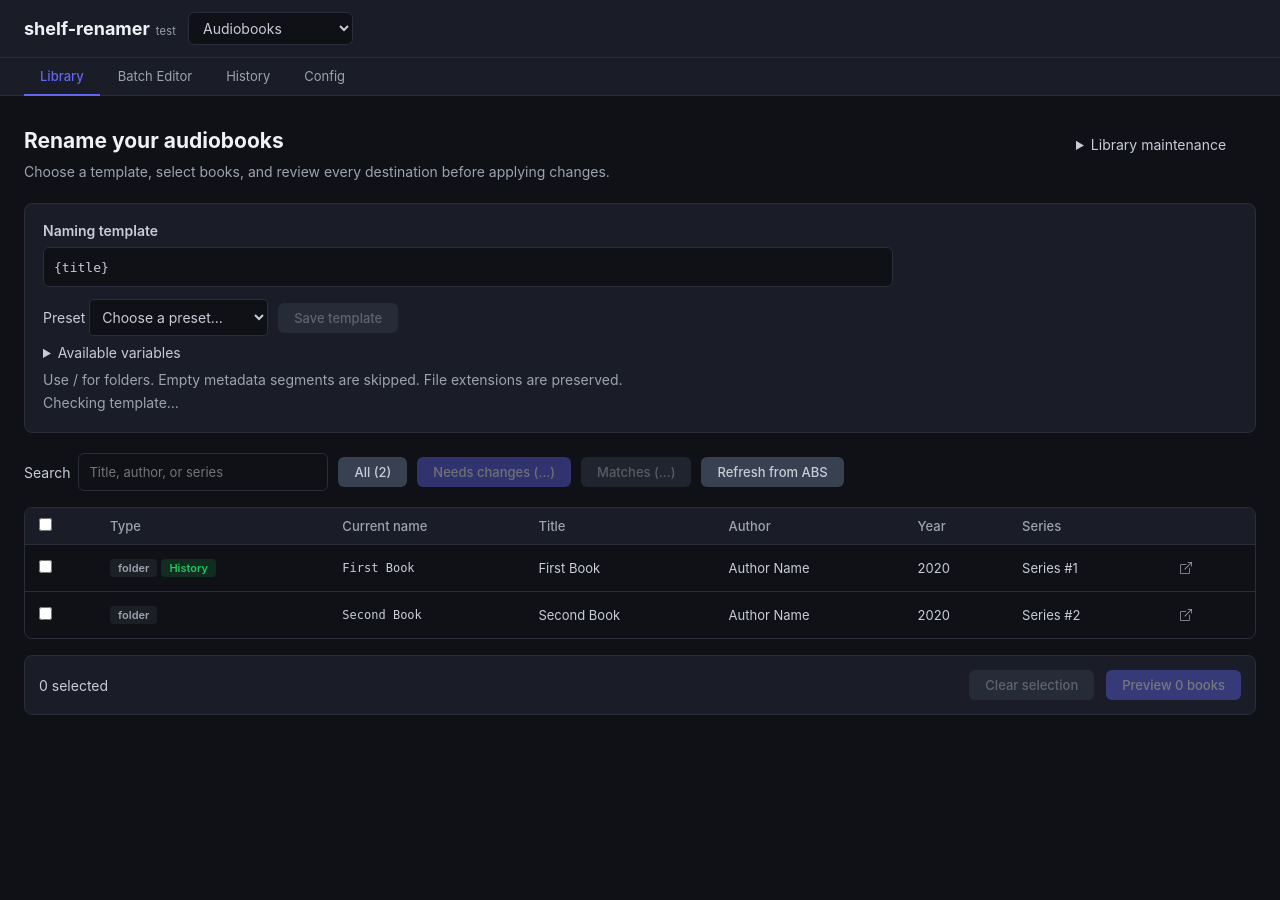
Test case: library workflow › preserves batch edits across tabs and shows per-row save errors
The width and height of the screenshot is (1280, 900).
expect the heading "Rename your audiobooks" is shown: met, box x1=24 y1=128 x2=284 y2=153
Step 1. Click the button "Batch Editor" → (155, 77), box x1=102 y1=58 x2=208 y2=96
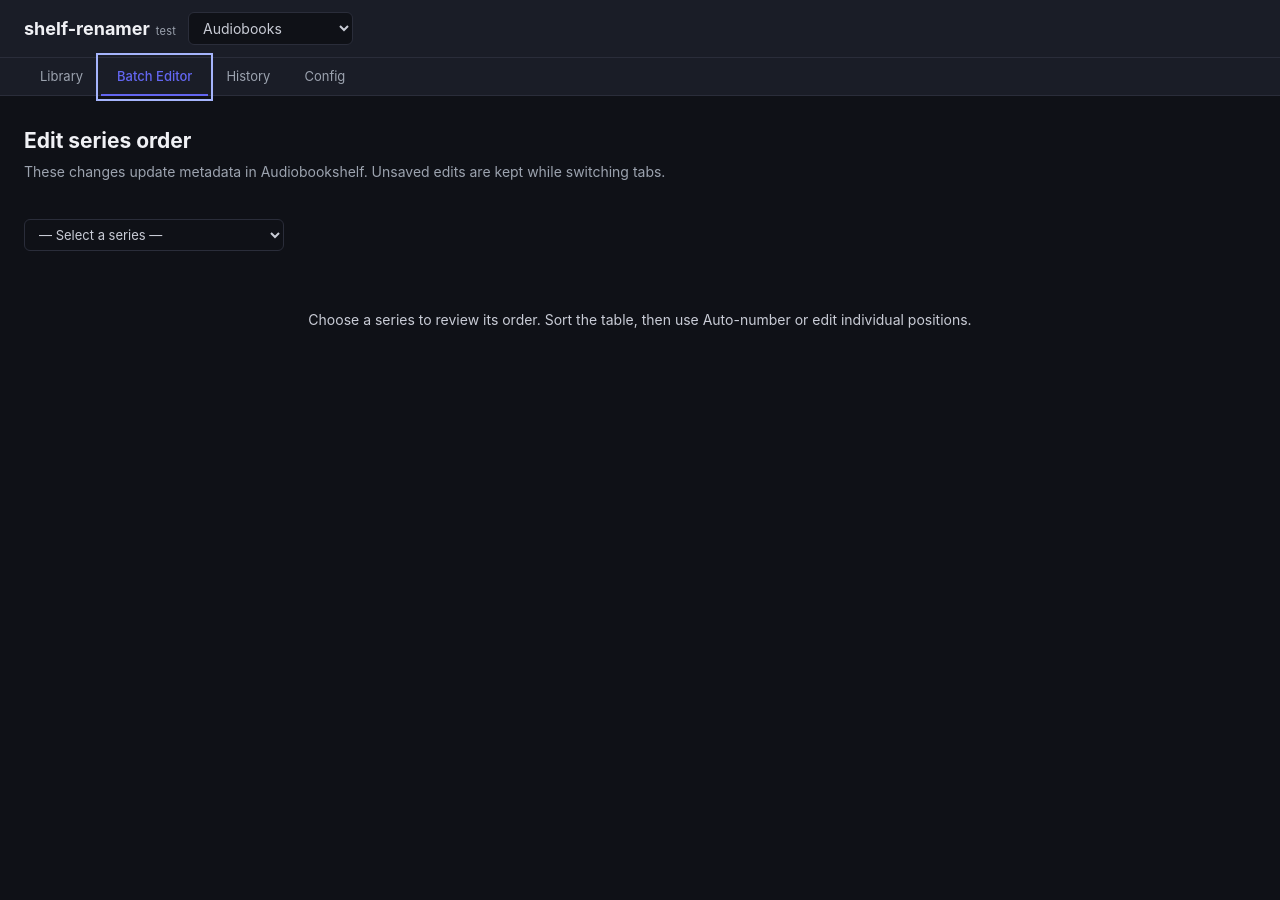
Step 2. Select "Series (2)" in the dropdown named "Series to edit" → (154, 235), box x1=24 y1=219 x2=284 y2=251
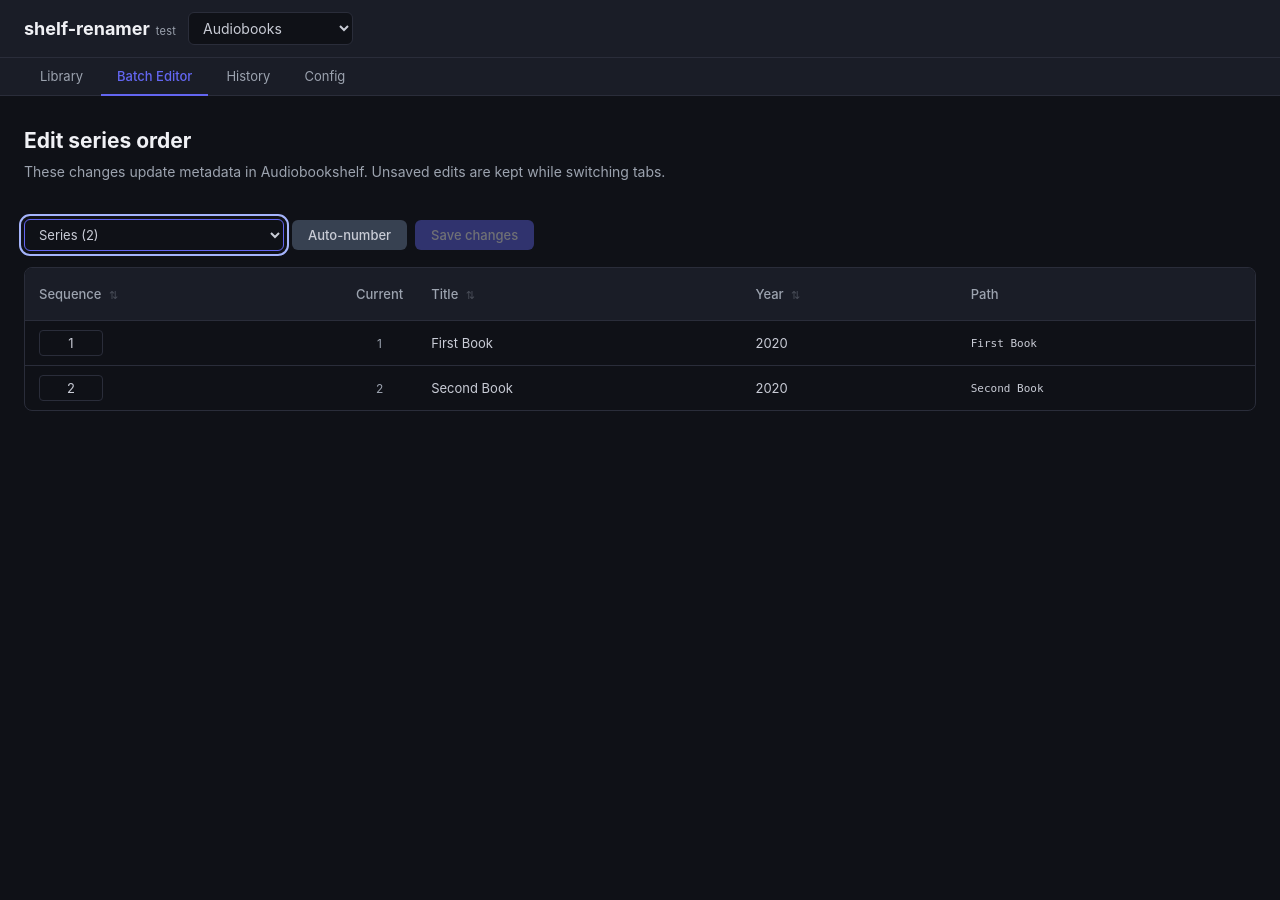
Step 3. Replace the text in the field named "Sequence for First Book" with "5" → (71, 343), box x1=39 y1=330 x2=103 y2=356
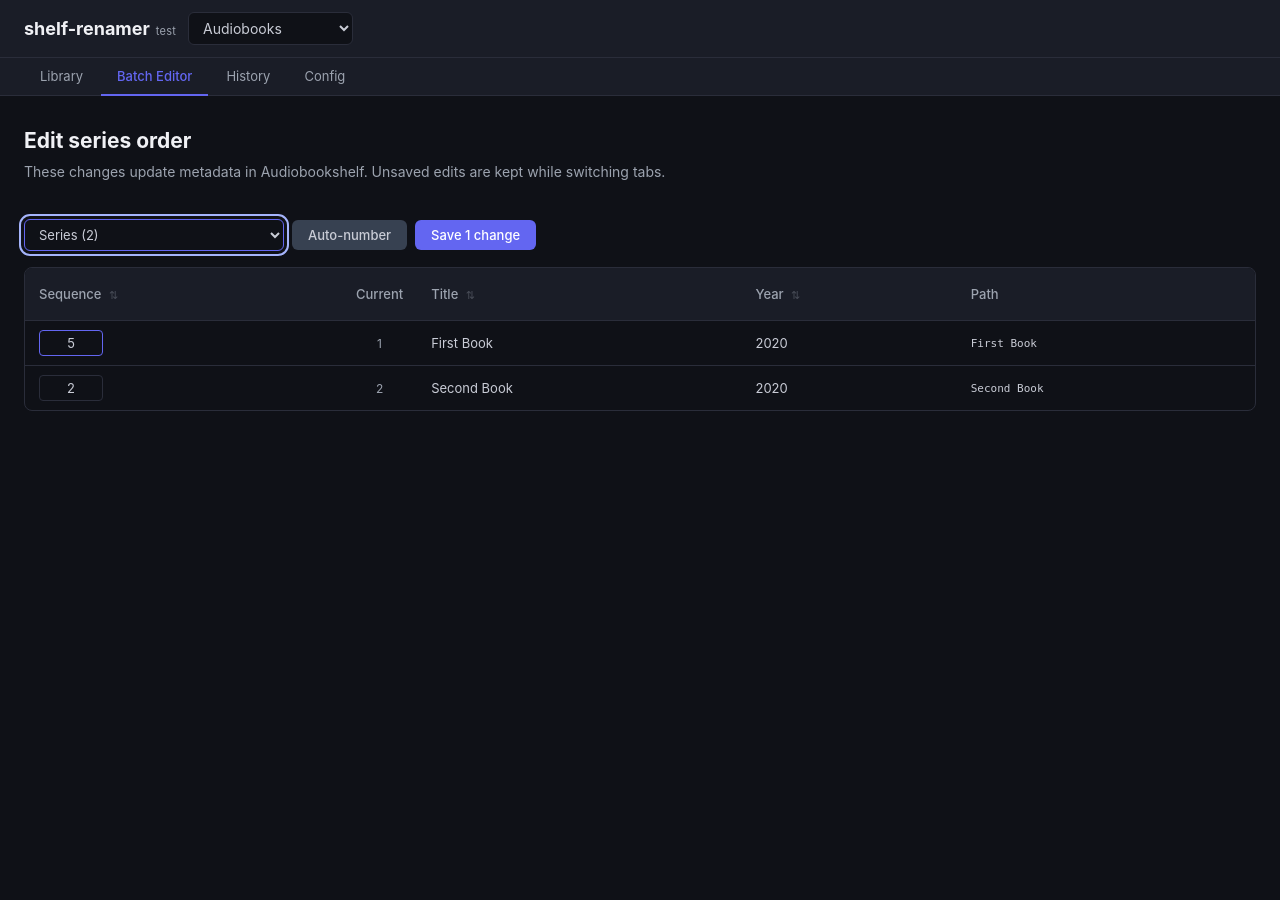
Step 4. Click the button "Library" → (62, 77), box x1=24 y1=58 x2=99 y2=96
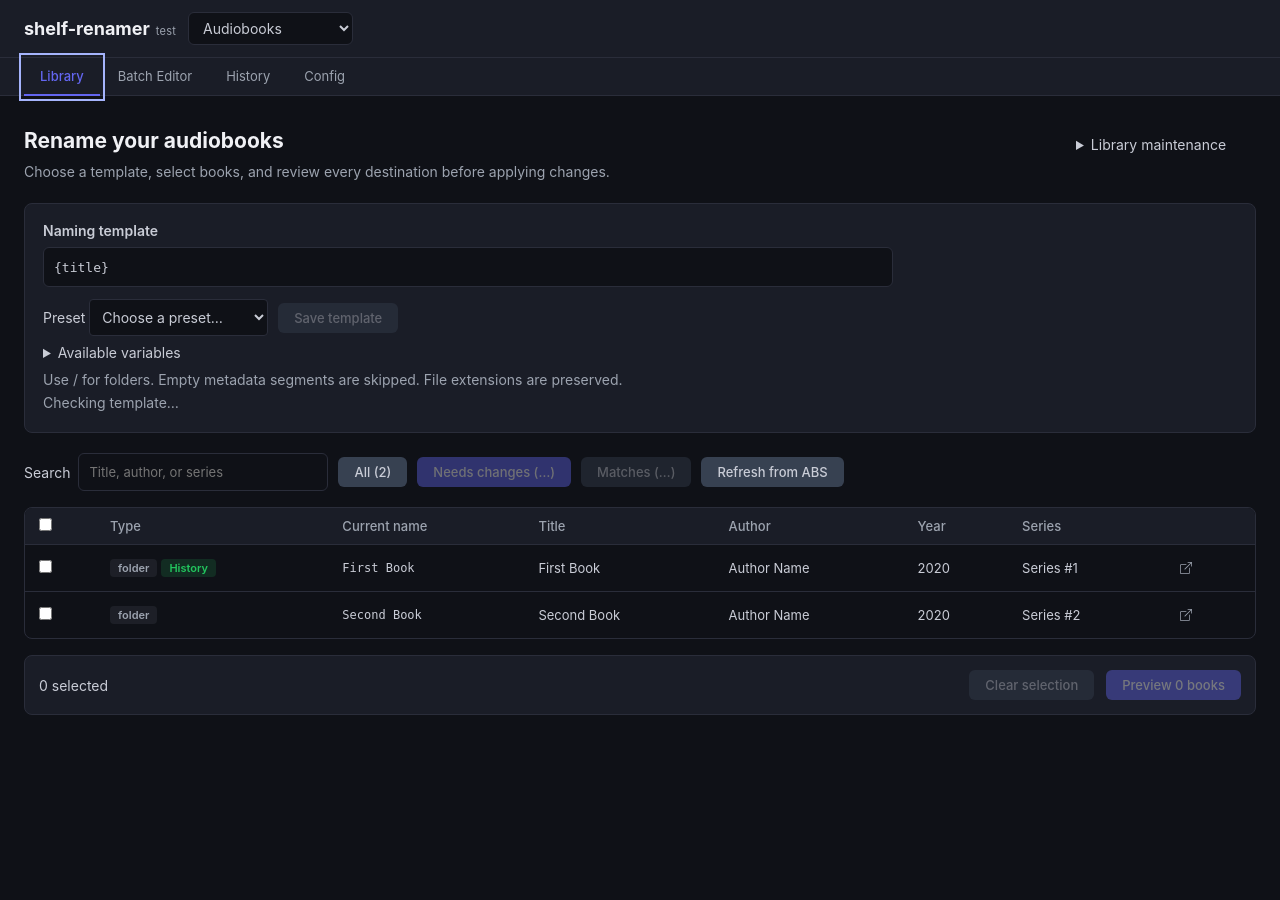
Step 5. Click the button "Batch Editor" → (155, 77), box x1=102 y1=58 x2=208 y2=96
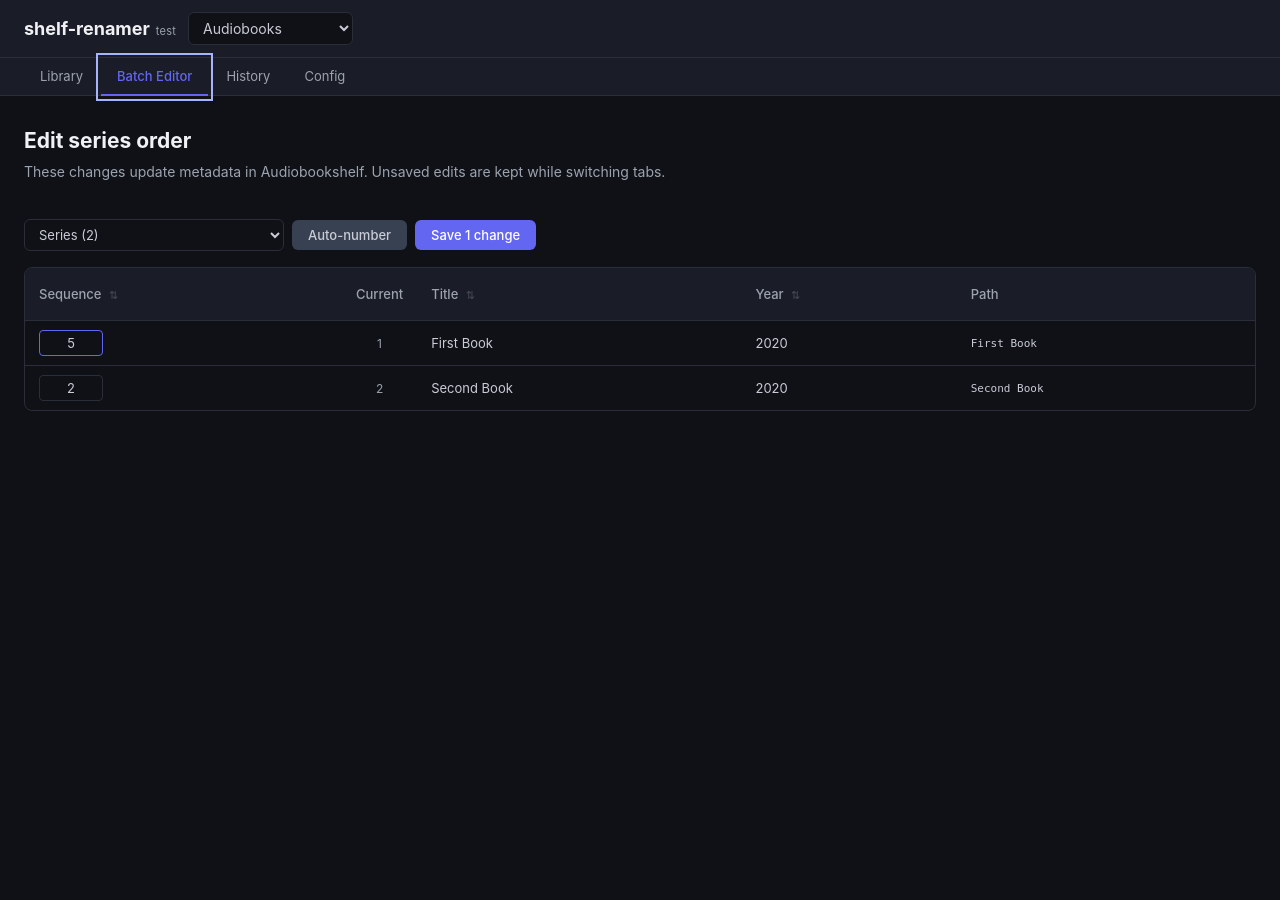
Step 6. Click the button "Save 1 change" → (476, 235), box x1=415 y1=220 x2=536 y2=250
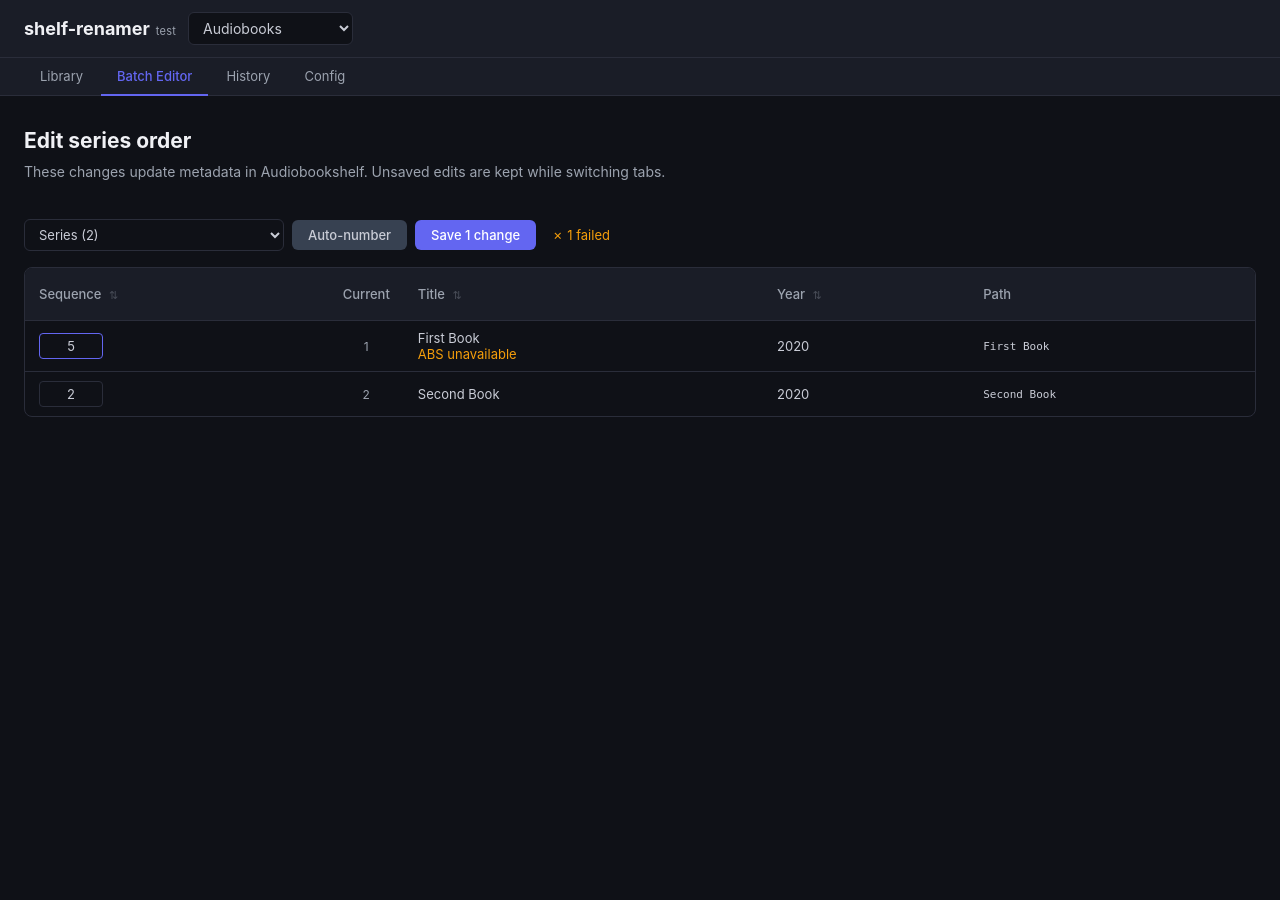
expect the button "Save 1 change" is enabled: met, box x1=415 y1=220 x2=536 y2=250
expect the message "ABS unavailable" is shown: met, box x1=418 y1=346 x2=517 y2=362
